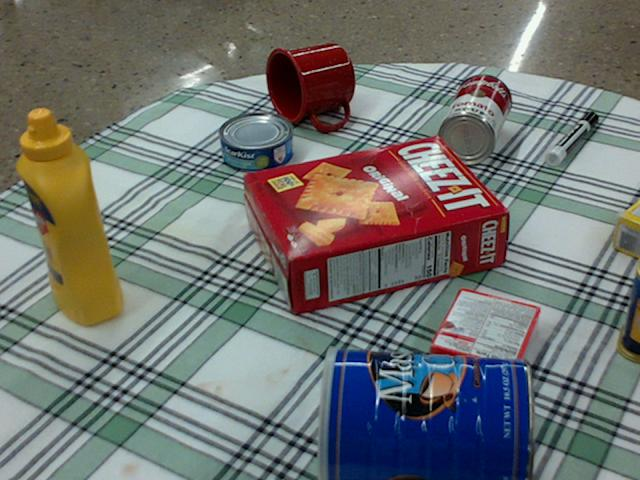cracker_box: (244, 137, 506, 314)
gelatin_box: (430, 287, 540, 387)
large_marker: (544, 112, 597, 163)
master_chef_can: (320, 349, 537, 479)
mug: (264, 44, 354, 128)
mustard_bottle: (16, 108, 122, 325)
potted_meat_can: (616, 251, 639, 360)
sugar_box: (614, 202, 639, 259)
tomato_soup_can: (436, 73, 511, 163)
tuna_fish_can: (217, 112, 292, 171)
